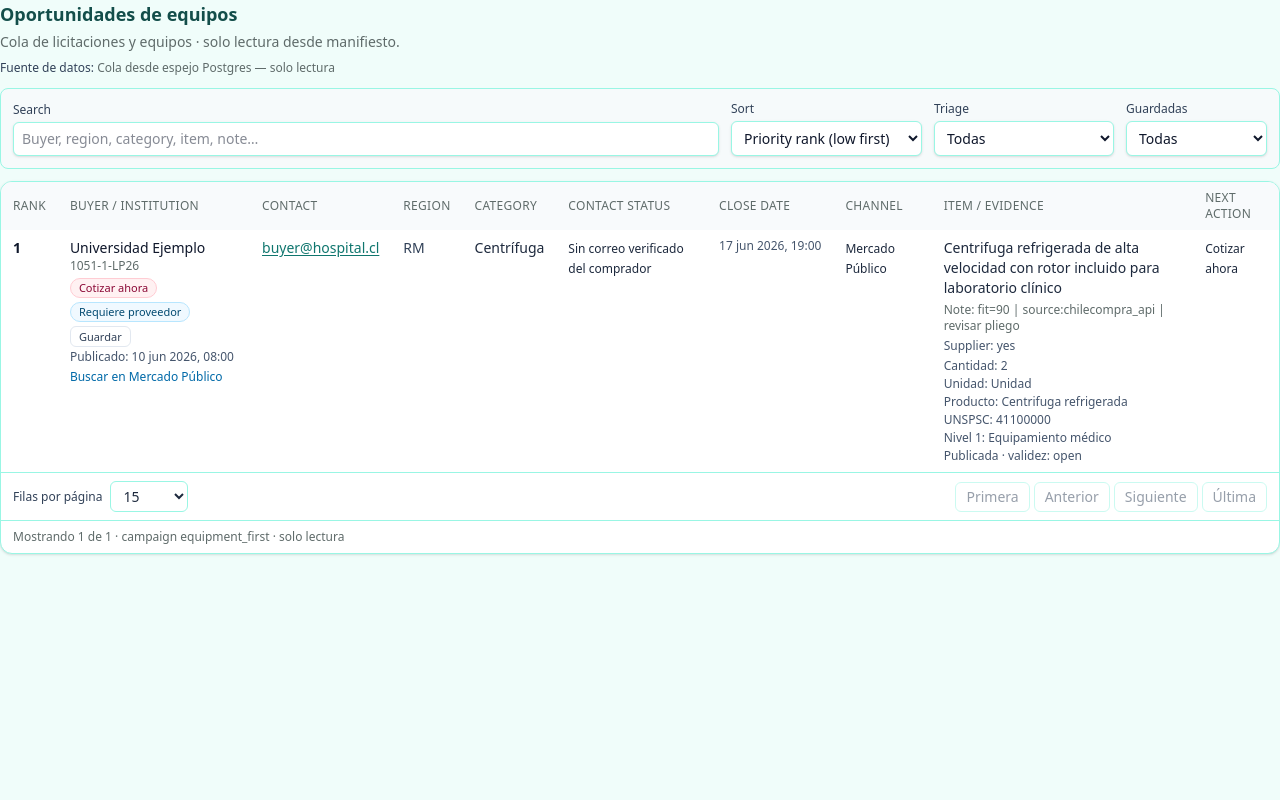
Test: EquipmentOpportunitiesTable › close button hides the detail drawer
The width and height of the screenshot is (1280, 800).
Click the button with aria-label "Ver detalle de licitación 1051-1-LP26".
click(154, 280)  # box left=70, top=238, right=238, bottom=322
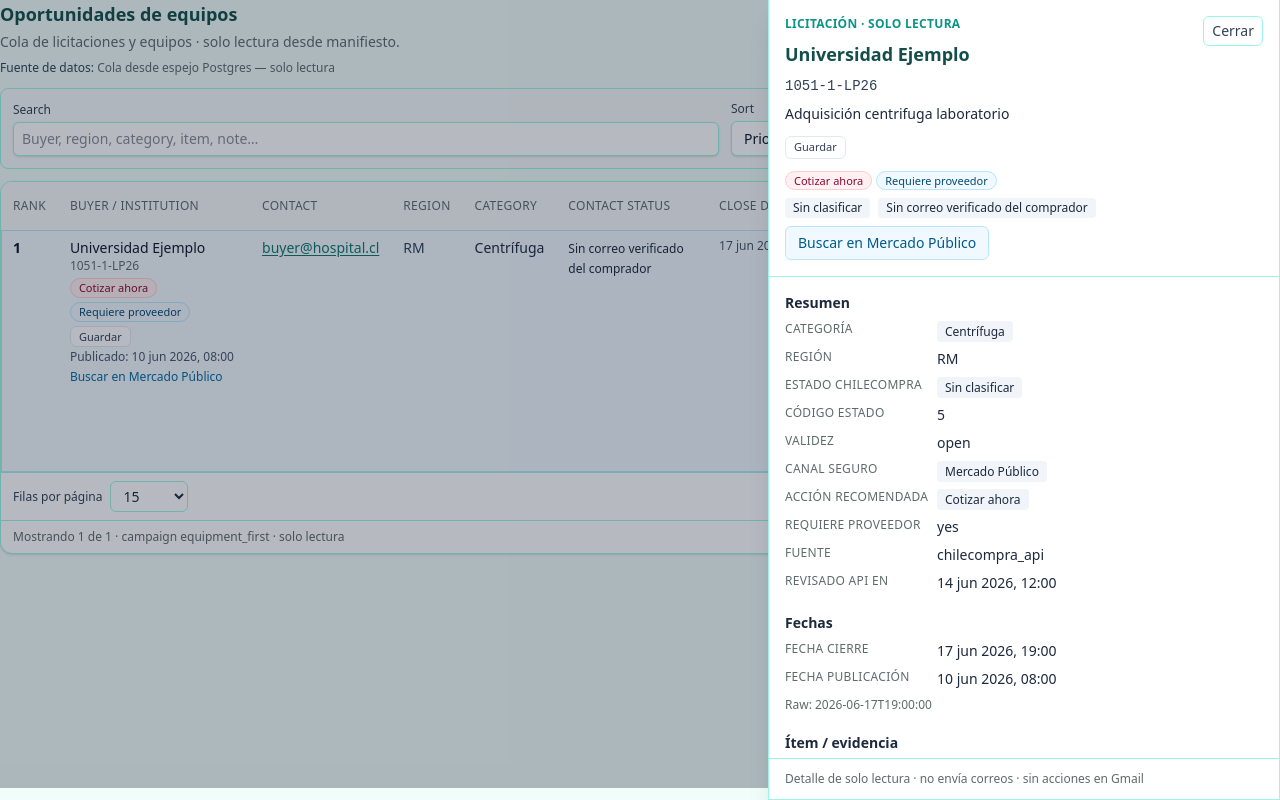
Click the button with aria-label "Cerrar detalle de licitación".
click(1233, 31)  # box left=1203, top=16, right=1263, bottom=46
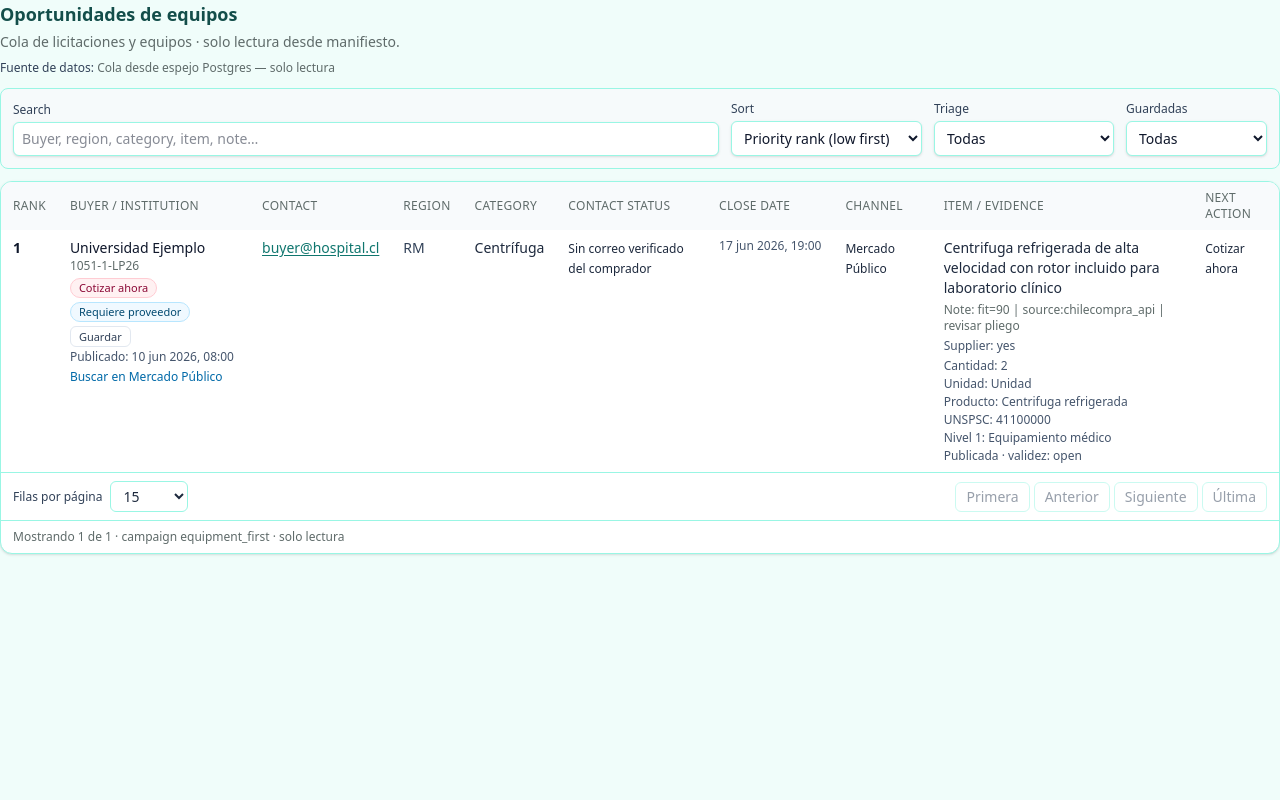
Expected: the dialog with test id "equipment-opportunity-detail-drawer" is gone
